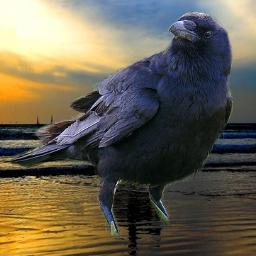Crow: (8, 11, 233, 238)
